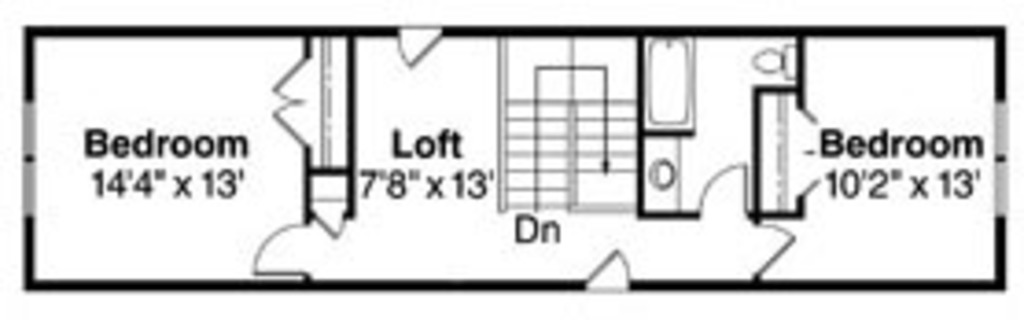door: (272, 53, 316, 156), (248, 222, 309, 276), (695, 163, 749, 221), (755, 219, 798, 281), (585, 246, 639, 295), (397, 23, 445, 66), (310, 196, 348, 239)
large_sink: (739, 33, 802, 81)
small_sink: (639, 132, 684, 216)
stairs: (485, 30, 644, 226)
tub: (639, 32, 701, 137)
window: (16, 101, 46, 216), (993, 97, 1010, 217)
